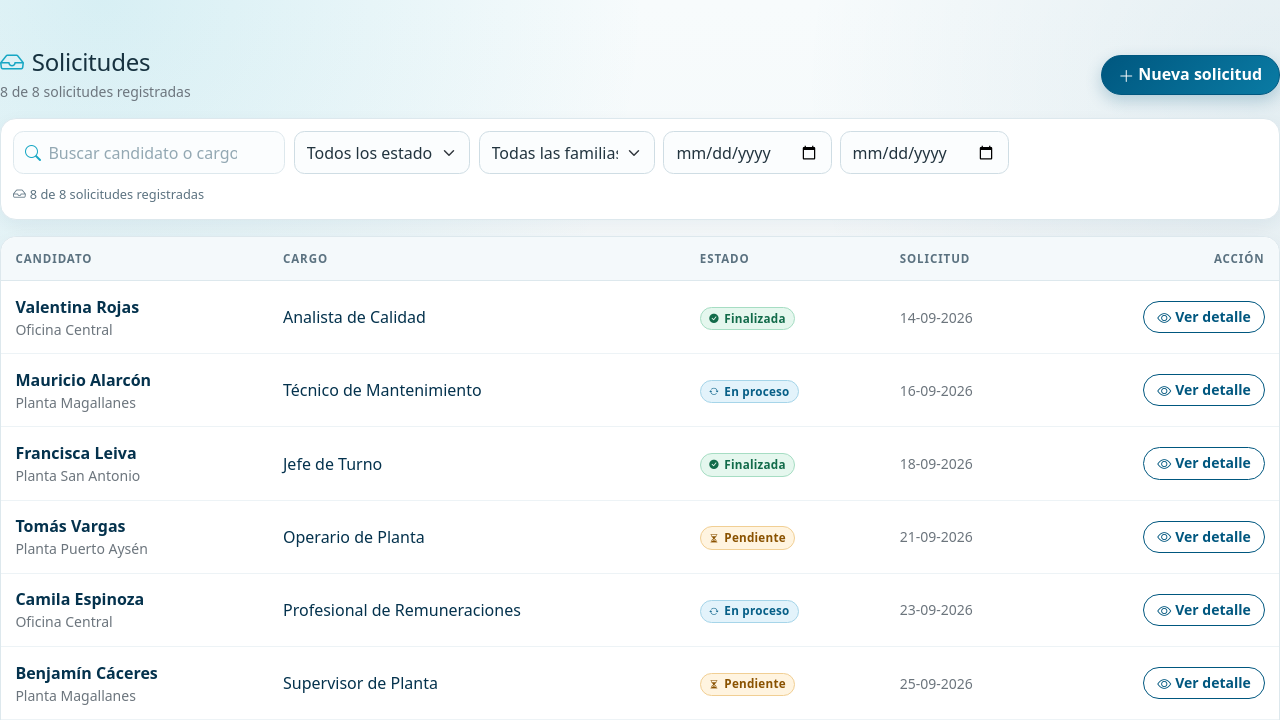
Test: BandejaSolicitudes — columna de responsable › filtra por rango de fechas y familia
The width and height of the screenshot is (1280, 720).
Select "Jefatura" in the 2nd dropdown named "familia" at (567, 153), box [479,131,655,174]
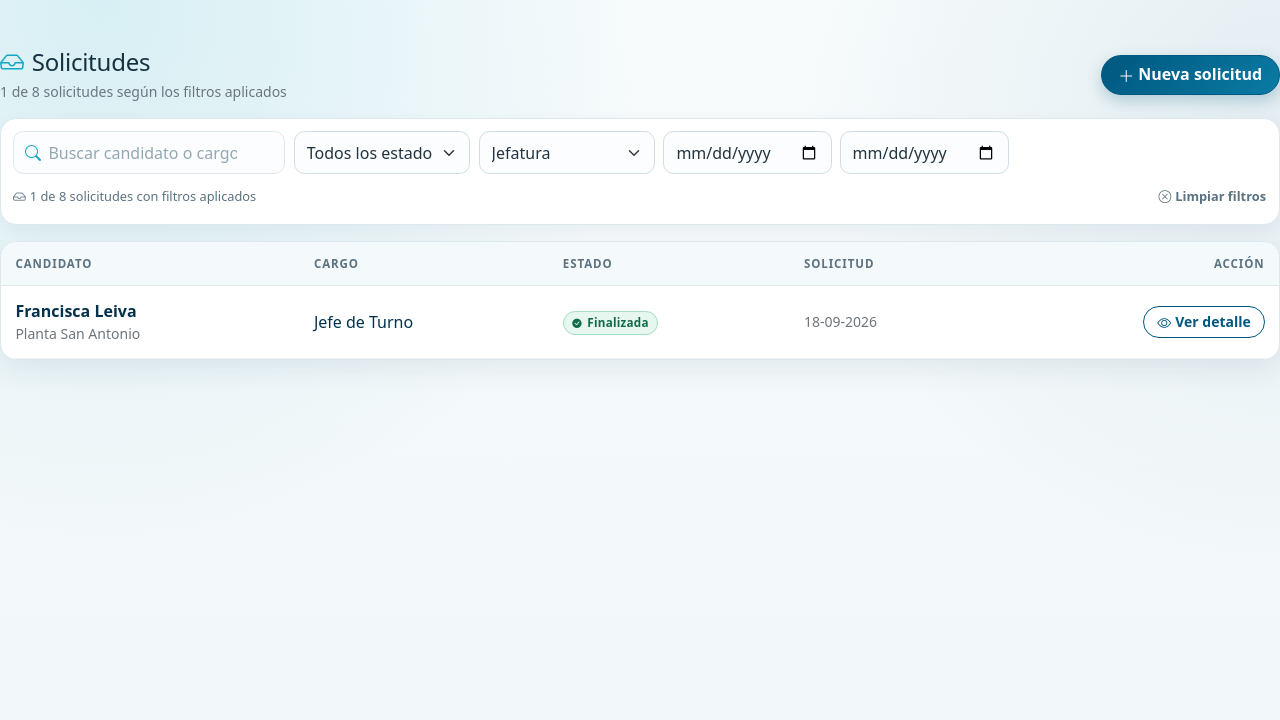
expect the text "Francisca Leiva" is shown: met, box [15,300,137,322]
expect the text "Valentina Rojas" is gone: met
Click the button "Limpiar filtros" at (1212, 197), box [1158,182,1267,212]
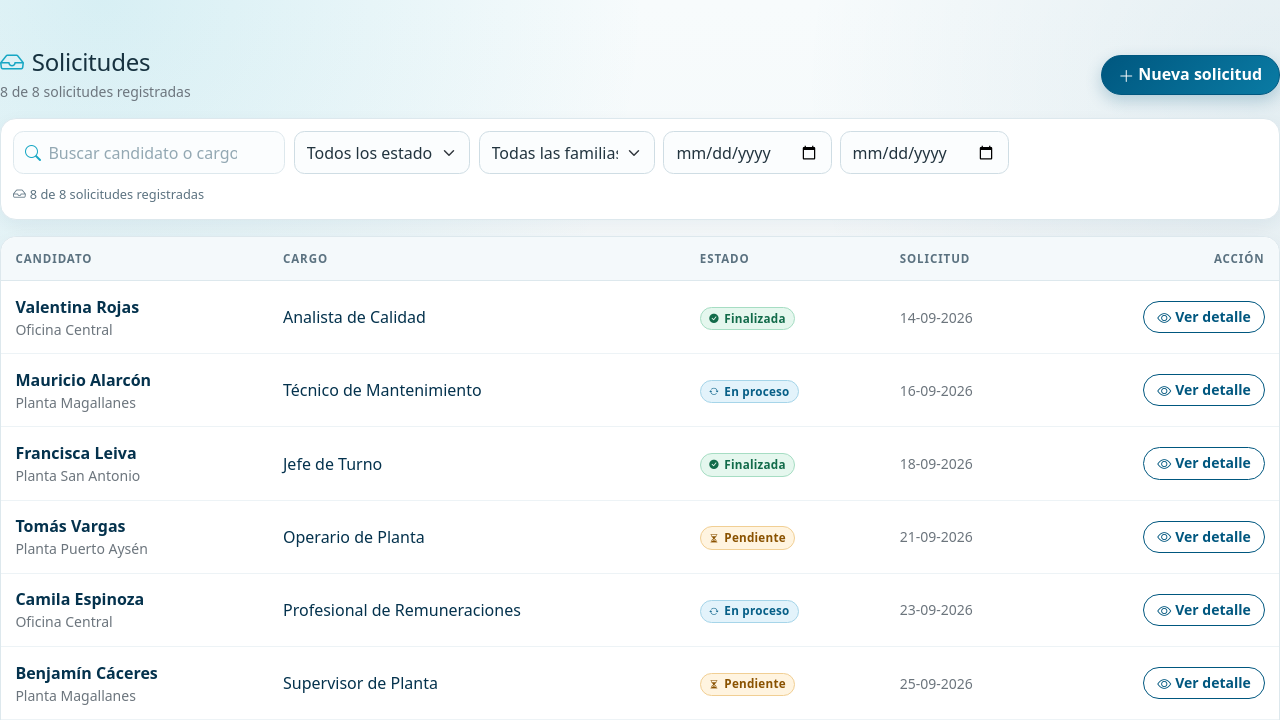
Type "2026-10-01" into the date field named "fecha de solicitud desde" at (748, 153), box [663,131,832,174]
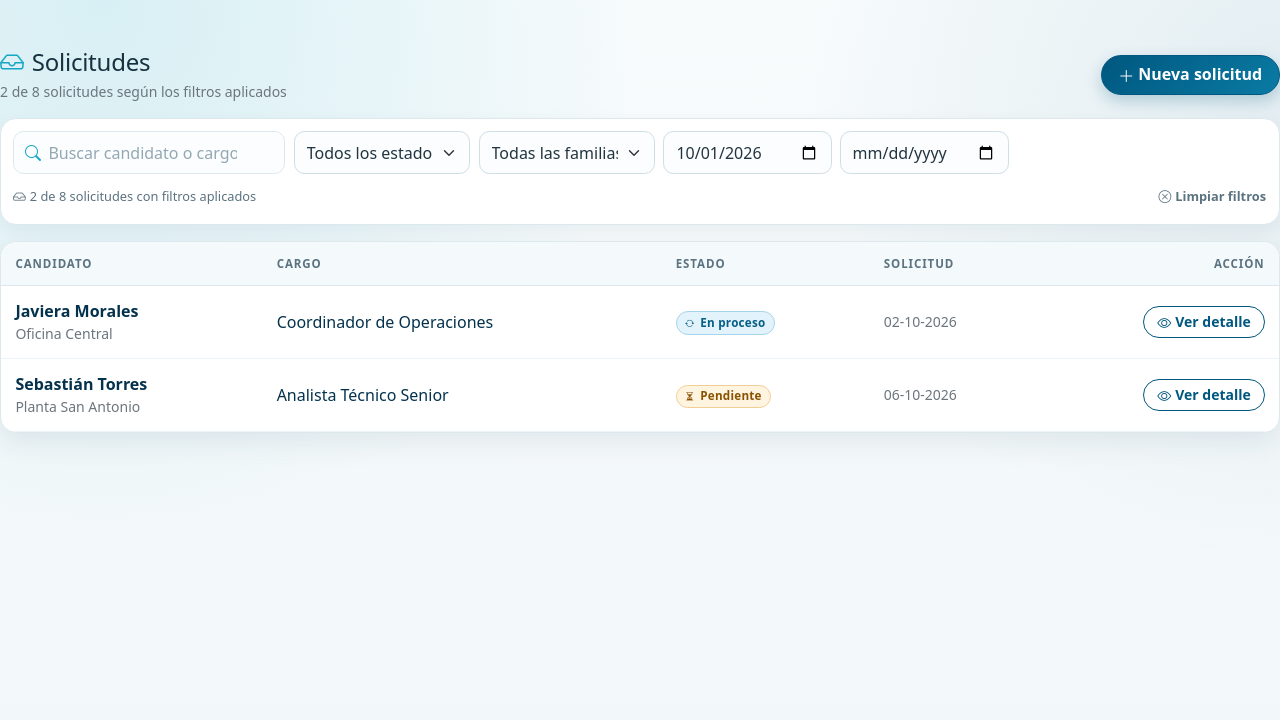
expect the text "Valentina Rojas" is gone: met
